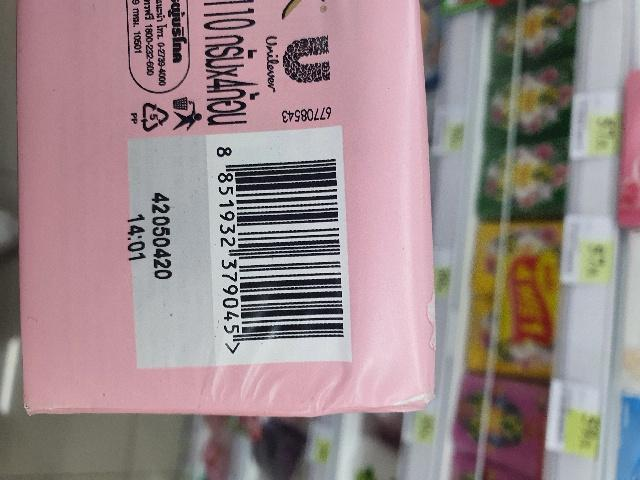Barcode: (209, 135, 349, 348)
